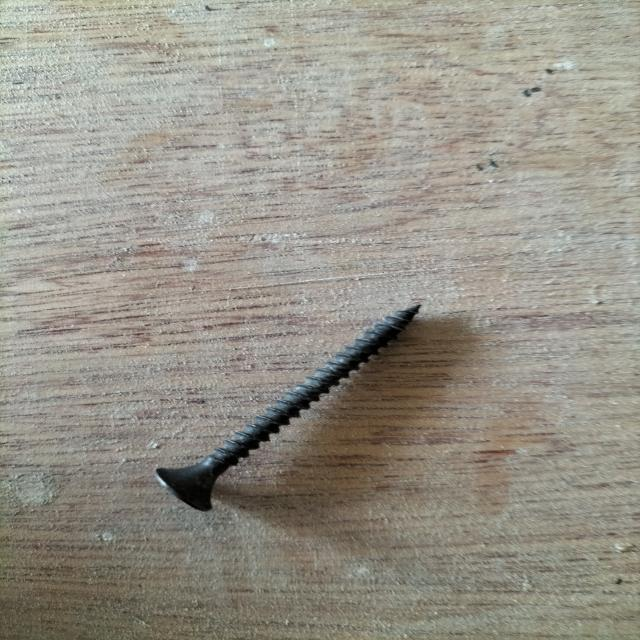screw: (156, 304, 421, 514)
